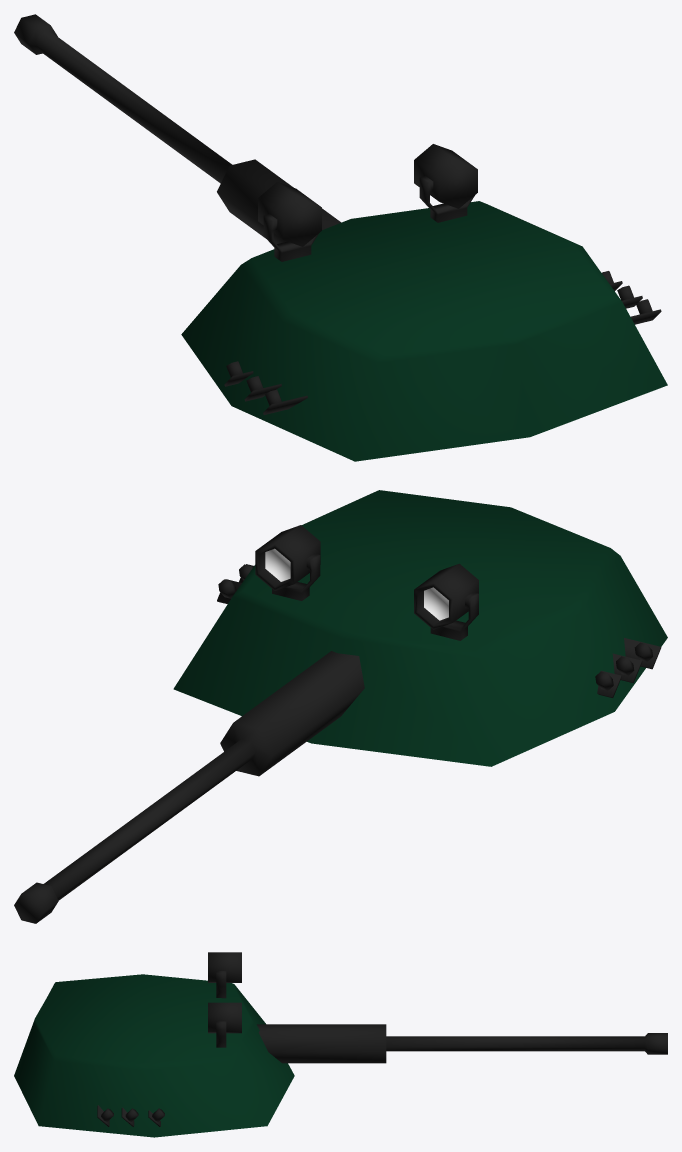
The model's file is Warsaw-BMP2-Turret.obj.
3 renders of one model, top to bottom at view 1: azimuth 30°, elevation 25°; view 2: azimuth 150°, elevation 25°; view 3: azimuth 270°, elevation 25°, orthographic. The views are drawn at different scales.
Visible parts, largest first — view 1: Warsaw-BMP-2-Turret_Cube.001; view 2: Warsaw-BMP-2-Turret_Cube.001; view 3: Warsaw-BMP-2-Turret_Cube.001.
Boxes of the visible parts, left/top/right/bottom form: Warsaw-BMP-2-Turret_Cube.001: left=14, top=14, right=667, bottom=461; Warsaw-BMP-2-Turret_Cube.001: left=14, top=490, right=667, bottom=923; Warsaw-BMP-2-Turret_Cube.001: left=14, top=952, right=667, bottom=1137.
Bounding box in the file's own units: 1.24 × 0.452 × 2.74.
